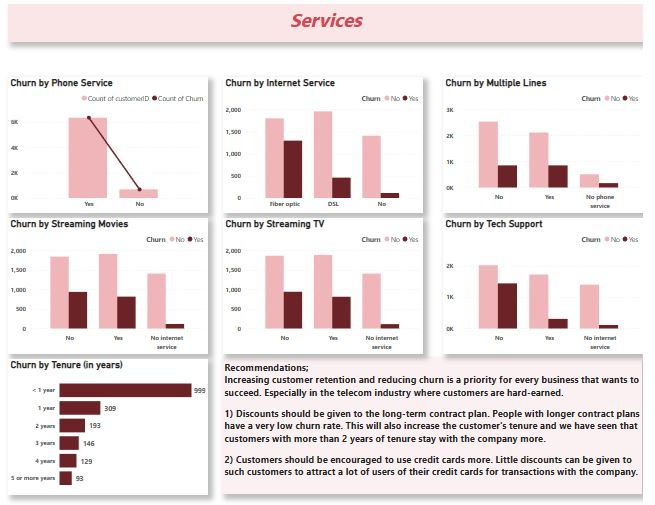

Layout of this report page (visuals, bound fields, positions):
{"tool":"powerbi","page":{"name":"Services ","canvas":[1280,1000],"ordinal":2},"visuals":[{"type":"textbox","box":[10,0,1270,76],"z":0},{"type":"lineClusteredColumnComboChart","title":"Churn by Phone Service ","fields":{"Category":["01 Churn-Dataset.PhoneService"],"Y":["CountNonNull(01 Churn-Dataset.customerID)"],"Y2":["CountNonNull(01 Churn-Dataset.Churn)"]},"box":[10.1,145.4,400.3,272.2],"z":1000},{"type":"lineClusteredColumnComboChart","title":"Churn by Internet Service ","fields":{"Category":["01 Churn-Dataset.InternetService"],"Y":["CountNonNull(01 Churn-Dataset.customerID)"],"Series":["01 Churn-Dataset.Churn"]},"box":[439.2,145.4,400.3,272.2],"z":2000},{"type":"lineClusteredColumnComboChart","title":"Churn by Multiple Lines","fields":{"Category":["01 Churn-Dataset.MultipleLines"],"Y":["CountNonNull(01 Churn-Dataset.customerID)"],"Series":["01 Churn-Dataset.Churn"]},"box":[879.8,145.4,400.3,272.2],"z":3000},{"type":"clusteredColumnChart","title":"Churn by Streaming Movies","fields":{"Category":["01 Churn-Dataset.StreamingMovies"],"Series":["01 Churn-Dataset.Churn"],"Y":["CountNonNull(01 Churn-Dataset.customerID)"]},"box":[10,427,400,272],"z":4000},{"type":"clusteredColumnChart","title":"Churn by Streaming TV","fields":{"Category":["01 Churn-Dataset.StreamingTV"],"Y":["CountNonNull(01 Churn-Dataset.customerID)"],"Series":["01 Churn-Dataset.Churn"]},"box":[439.2,427.7,400.3,272.2],"z":5000},{"type":"clusteredColumnChart","title":"Churn by Tech Support","fields":{"Y":["CountNonNull(01 Churn-Dataset.customerID)"],"Series":["01 Churn-Dataset.Churn"],"Category":["01 Churn-Dataset.TechSupport"]},"box":[879.8,427.7,400.3,272.2],"z":6000},{"type":"clusteredBarChart","title":"Churn by Tenure (in years)","fields":{"Category":["01 Churn-Dataset.Tenure(years)"],"Y":["CountNonNull(01 Churn-Dataset.Churn)"]},"box":[10,709,400,272],"z":6001},{"type":"textbox","box":[438.6,708.6,841.4,272.9],"z":6002}]}

Visuals, with their boxes in screenshot pixels (x1, y1, x2, y2), scaled from the page's 1280x1000 canvas onto the 655x505 screenshot:
textbox: BBox(5, 0, 654, 38)
"Churn by Phone Service " lineClusteredColumnComboChart: BBox(5, 73, 210, 211)
"Churn by Internet Service " lineClusteredColumnComboChart: BBox(225, 73, 430, 211)
"Churn by Multiple Lines" lineClusteredColumnComboChart: BBox(450, 73, 654, 211)
"Churn by Streaming Movies" clusteredColumnChart: BBox(5, 216, 210, 353)
"Churn by Streaming TV" clusteredColumnChart: BBox(225, 216, 430, 353)
"Churn by Tech Support" clusteredColumnChart: BBox(450, 216, 654, 353)
"Churn by Tenure (in years)" clusteredBarChart: BBox(5, 358, 210, 495)
textbox: BBox(224, 358, 654, 496)
